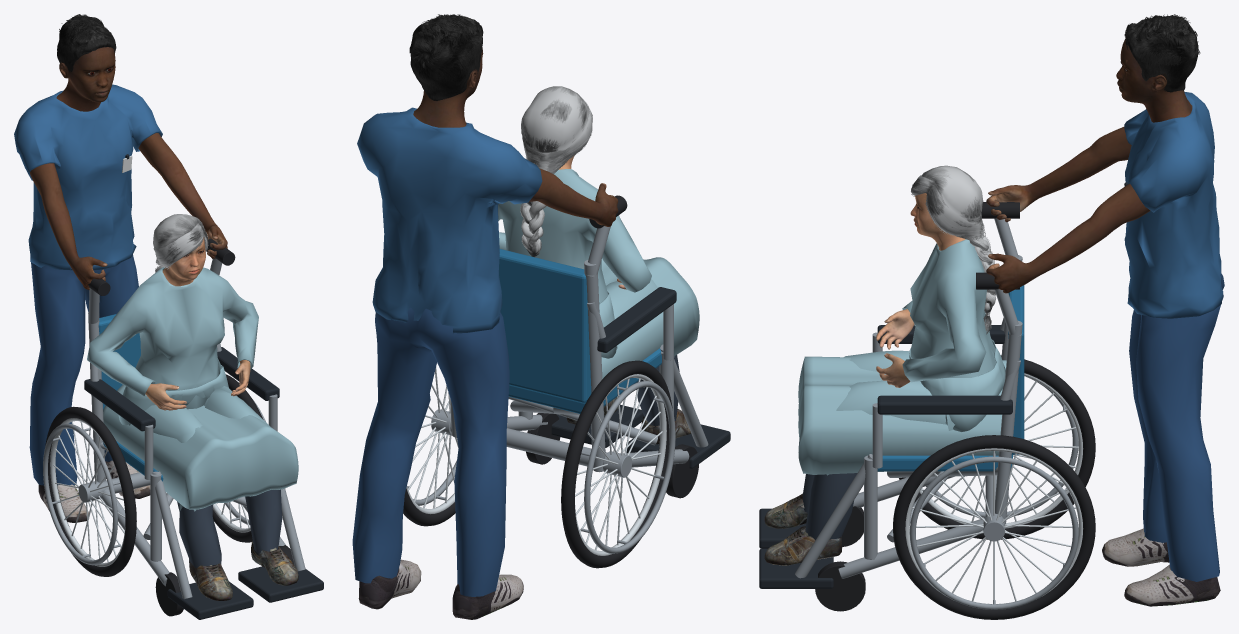
The model's file is wheelchair.glb.
3 views of the same model, side by side, from view 1: azimuth 30°, elevation 25°; view 2: azimuth 150°, elevation 25°; view 3: azimuth 270°, elevation 25° (orthographic). The views are drawn at different scales.
Visible parts, largest first — view 1: male_casualsuit06, male_casualsuit02, Patient gown | shaped lap and hanging pleated skirt, Micah | anatomical body, Wheelchair | rear rubber tyre, shoes02, Nora | anatomical body, braid01, short01, Wheelchair | separate push rim, Wheelchair | supported footplate.001, Wheelchair | supported footplate (+14 smaller); view 2: male_casualsuit06, Wheelchair | padded backrest, male_casualsuit02, braid01, short01, Wheelchair | rear rubber tyre, Patient gown | shaped lap and hanging pleated skirt, Micah | anatomical body, shoes05, Wheelchair | separate push rim, Wheelchair | connected arm pad, Wheelchair | back upright (+15 smaller); view 3: male_casualsuit06, male_casualsuit02, Micah | anatomical body, Patient gown | shaped lap and hanging pleated skirt, Wheelchair | rear rubber tyre.001, braid01, shoes05, short01, Wheelchair | rear rubber tyre, Wheelchair | separate push rim.001, Wheelchair | connected arm pad.001, Nora | anatomical body (+17 smaller).
Part boxes in pixels (x1,y1,x2,y2): male_casualsuit06: (14,84,162,485); male_casualsuit02: (87,267,282,568); Patient gown | shaped lap and hanging pleated skirt: (103,385,298,509); Micah | anatomical body: (30,47,227,290); Wheelchair | rear rubber tyre: (45,406,136,576); shoes02: (189,541,298,600); Nora | anatomical body: (145,237,250,410); braid01: (153,214,208,272); short01: (57,14,116,71); Wheelchair | separate push rim: (43,423,117,565); Wheelchair | supported footplate.001: (238,564,323,602); Wheelchair | supported footplate: (167,581,253,619); male_casualsuit06: (352,107,542,596); Wheelchair | padded backrest: (499,249,591,402); male_casualsuit02: (498,169,679,426); braid01: (520,86,592,257); short01: (409,14,483,100); Wheelchair | rear rubber tyre: (561,360,672,568); Patient gown | shaped lap and hanging pleated skirt: (601,257,699,378); Micah | anatomical body: (413,47,618,226); shoes05: (358,559,523,619); Wheelchair | separate push rim: (584,381,675,553); Wheelchair | connected arm pad: (597,287,676,352); Wheelchair | back upright: (584,260,605,472); male_casualsuit06: (1124,91,1224,581); male_casualsuit02: (802,239,996,540); Micah | anatomical body: (986,38,1192,293); Patient gown | shaped lap and hanging pleated skirt: (798,356,1006,474); Wheelchair | rear rubber tyre.001: (893,435,1095,619); braid01: (911,165,995,334); shoes05: (1102,528,1220,606); short01: (1124,14,1200,92); Wheelchair | rear rubber tyre: (899,355,1095,539); Wheelchair | separate push rim.001: (909,456,1078,609); Wheelchair | connected arm pad.001: (877,395,1012,414); Nora | anatomical body: (876,193,965,387).
Size of the model in its own units: 0.6748 by 1.83 by 1.38.
Materials: 26 (26 with a texture image).
